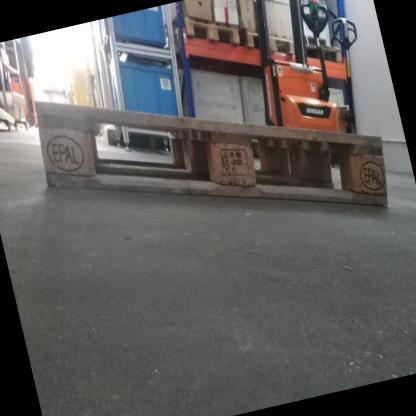BoxFace: (30, 91, 393, 215)
